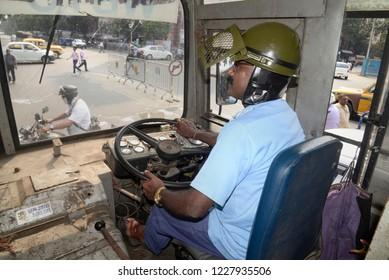Helmet: (241, 23, 301, 77)
